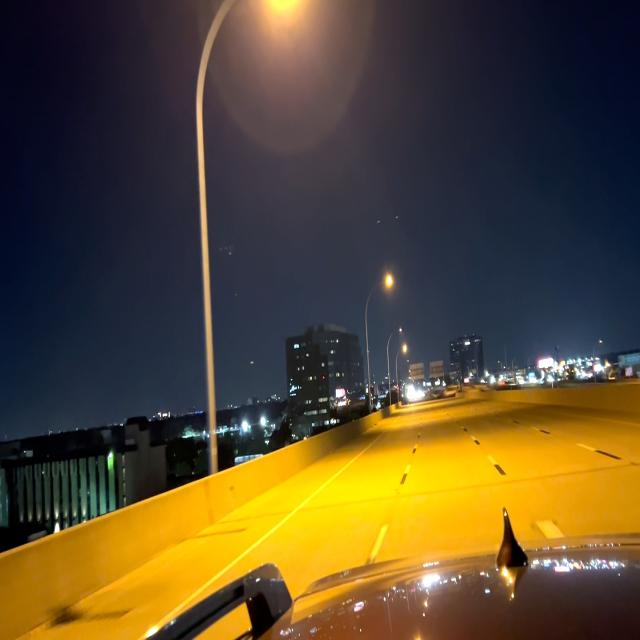back-of-sign: (430, 358, 446, 381), (409, 362, 426, 383)
